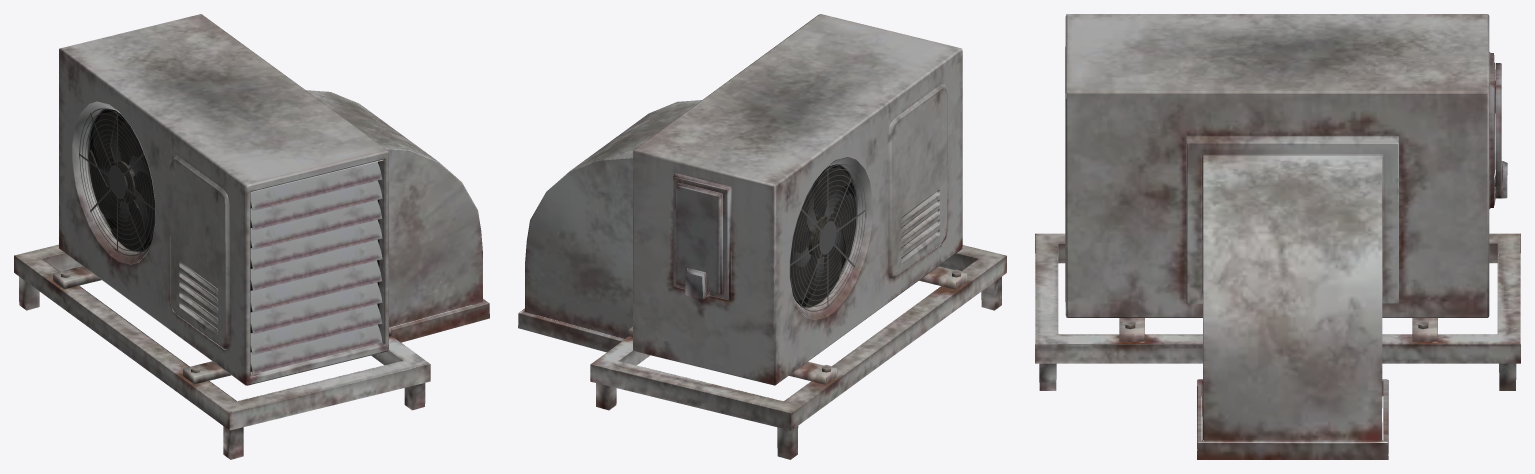
The model's file is ac_old.glb.
3 views of the same model, side by side, from view 1: azimuth 30°, elevation 25°; view 2: azimuth 150°, elevation 25°; view 3: azimuth 270°, elevation 25° (orthographic). The views are drawn at different scales.
Parts seen in each view (by area): view 1: ac_old; view 2: ac_old; view 3: ac_old.
Boxes of the visible parts, <box> form: ac_old: <box>14,14,489,459</box>; ac_old: <box>518,14,1006,459</box>; ac_old: <box>1035,14,1520,459</box>.
Bounding box in the file's own units: 0.9652 × 0.7199 × 1.09.
4 materials, 4 textured.
